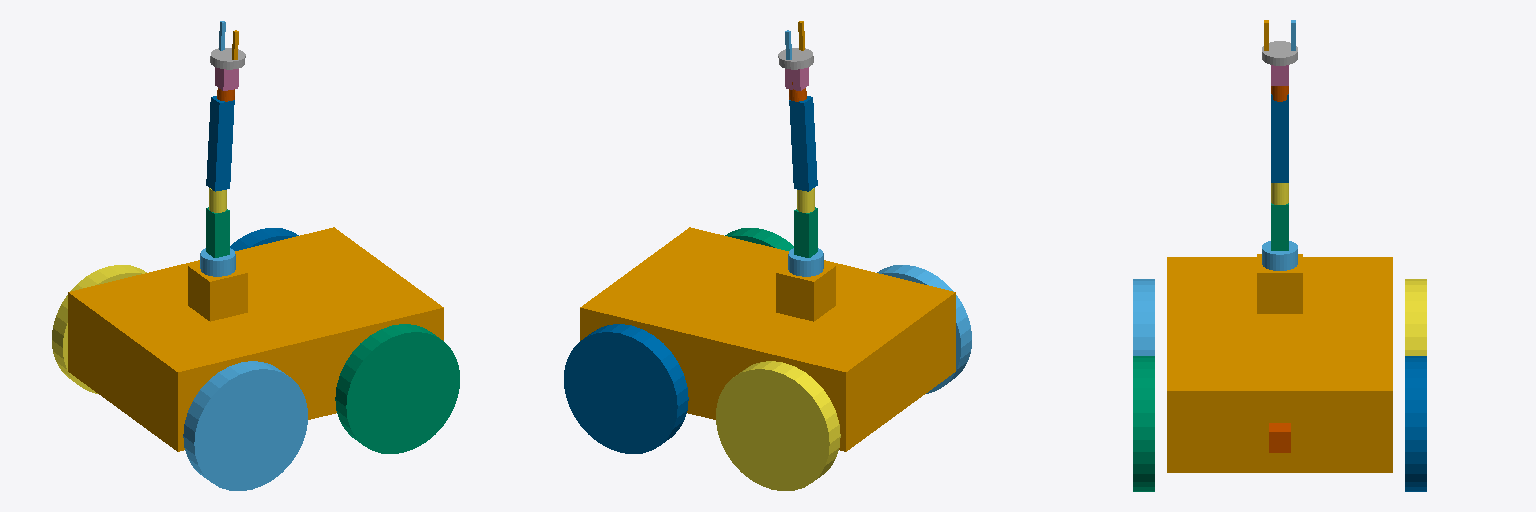
--- What the picture shows (computed from the rendered views, not written in the file) ---
3 views of the same robot in one strip: view 1: azimuth 30°, elevation 25°; view 2: azimuth 150°, elevation 25°; view 3: azimuth 270°, elevation 25° (orthographic).
Robot: atom — 18 links, 17 joints (7 revolute, 4 continuous, 2 prismatic, 4 fixed); root link robot_footprint; default pose: every joint at zero.
Links seen in each view (by area): view 1: chassis, right_wheel_front, right_wheel_back, arm_base, elbow_pitch_link, left_wheel_back, shoulder_pitch_link, left_wheel_front, shoulder_pan_link, gripper_roll_link; view 2: chassis, left_wheel_front, left_wheel_back, arm_base, elbow_pitch_link, right_wheel_back, shoulder_pitch_link, right_wheel_front, shoulder_pan_link, gripper_roll_link; view 3: chassis, right_wheel_front, left_wheel_front, arm_base, right_wheel_back, left_wheel_back, elbow_pitch_link, shoulder_pitch_link, shoulder_pan_link, gripper_roll_link, camera.
Boxes of the visible links, x1=… form: chassis: x1=68, y1=227, x2=443, y2=451; right_wheel_front: x1=335, y1=324, x2=459, y2=453; right_wheel_back: x1=183, y1=361, x2=307, y2=490; arm_base: x1=188, y1=263, x2=247, y2=321; elbow_pitch_link: x1=206, y1=96, x2=234, y2=191; left_wheel_back: x1=52, y1=265, x2=146, y2=393; shoulder_pitch_link: x1=206, y1=207, x2=229, y2=257; left_wheel_front: x1=230, y1=228, x2=298, y2=250; shoulder_pan_link: x1=200, y1=248, x2=235, y2=276; gripper_roll_link: x1=210, y1=48, x2=245, y2=69; chassis: x1=580, y1=227, x2=955, y2=451; left_wheel_front: x1=564, y1=324, x2=688, y2=453; left_wheel_back: x1=716, y1=361, x2=840, y2=490; arm_base: x1=776, y1=263, x2=835, y2=321; elbow_pitch_link: x1=789, y1=96, x2=817, y2=191; right_wheel_back: x1=877, y1=265, x2=971, y2=393; shoulder_pitch_link: x1=794, y1=207, x2=817, y2=257; right_wheel_front: x1=725, y1=228, x2=793, y2=250; shoulder_pan_link: x1=788, y1=248, x2=823, y2=276; gripper_roll_link: x1=778, y1=48, x2=813, y2=69; chassis: x1=1167, y1=257, x2=1392, y2=472; right_wheel_front: x1=1133, y1=356, x2=1154, y2=491; left_wheel_front: x1=1405, y1=356, x2=1426, y2=491; arm_base: x1=1257, y1=254, x2=1302, y2=313; right_wheel_back: x1=1133, y1=279, x2=1154, y2=355; left_wheel_back: x1=1405, y1=279, x2=1426, y2=355; elbow_pitch_link: x1=1271, y1=94, x2=1288, y2=182; shoulder_pitch_link: x1=1271, y1=203, x2=1288, y2=250; shoulder_pan_link: x1=1262, y1=241, x2=1297, y2=270; gripper_roll_link: x1=1262, y1=41, x2=1297, y2=65; camera: x1=1269, y1=423, x2=1290, y2=452.
Bounding box of the posed robot: 0.755 × 0.65 × 1 m (x, y, z).
Meshes: 1 distinct files referenced, 0 mesh visuals loaded (none loaded); not drawn: 1 (reference not matched to a file when rendering).

The robot description file, URDF, robot "atom":
<?xml version="1.0" ?>
<!-- =================================================================================== -->
<!-- |    This document was autogenerated by xacro from atom.xacro                     | -->
<!-- |    EDITING THIS FILE BY HAND IS NOT RECOMMENDED                                 | -->
<!-- =================================================================================== -->
<robot name="atom">
  <!-- Make Chassis of Bot -->
  <link name="chassis">
    <pose>0 0 0.1 0 0 0</pose>
    <inertial>
      <mass value="35"/>
      <origin rpy=" 0 0 0" xyz="0.0 0 0"/>
      <inertia ixx="0.725" ixy="0" ixz="0" iyy="1.325" iyz="0" izz="1.85"/>
    </inertial>
    <collision name="collision">
      <origin rpy=" 0 0 0" xyz="0 0 0.05"/>
      <geometry>
        <box size="0.7 0.5 0.2"/>
      </geometry>
    </collision>
    <visual name="chassis_visual">
      <origin rpy=" 0 0 0" xyz="0 0 0.05"/>
      <geometry>
        <box size="0.7 0.5 0.2"/>
      </geometry>
    </visual>
  </link>
  <!-- Right Wheel Back -->
  <link name="right_wheel_back">
    <inertial>
      <mass value="3"/>
      <origin rpy="0 1.5707 1.5707" xyz="0 0 0"/>
      <inertia ixx="0.0175" ixy="0.0" ixz="0.0" iyy="0.0175" iyz="0.0" izz="0.03375"/>
    </inertial>
    <visual>
      <origin rpy="0 1.5707 1.5707" xyz="0 0 0"/>
      <geometry>
        <cylinder length="0.05" radius="0.15"/>
      </geometry>
    </visual>
    <collision>
      <origin rpy="0 1.5707 1.5707" xyz="0 0 0"/>
      <geometry>
        <cylinder length="0.05" radius="0.15"/>
      </geometry>
    </collision>
  </link>
  <!-- Right Wheel Front-->
  <link name="right_wheel_front">
    <inertial>
      <mass value="3"/>
      <origin rpy="0 1.5707 1.5707" xyz="0 0 0"/>
      <inertia ixx="0.0175" ixy="0.0" ixz="0.0" iyy="0.0175" iyz="0.0" izz="0.03375"/>
    </inertial>
    <visual>
      <origin rpy="0 1.5707 1.5707" xyz="0 0 0"/>
      <geometry>
        <cylinder length="0.05" radius="0.15"/>
      </geometry>
    </visual>
    <collision>
      <origin rpy="0 1.5707 1.5707" xyz="0 0 0"/>
      <geometry>
        <cylinder length="0.05" radius="0.15"/>
      </geometry>
    </collision>
  </link>
  <!-- Left wheel Back-->
  <link name="left_wheel_back">
    <inertial>
      <mass value="3"/>
      <origin rpy="0 1.5707 1.5707" xyz="0 0 0"/>
      <inertia ixx="0.0175" ixy="0.0" ixz="0.0" iyy="0.0175" iyz="0.0" izz="0.03375"/>
    </inertial>
    <visual>
      <origin rpy="0 1.5707 1.5707" xyz="0 0 0"/>
      <geometry>
        <cylinder length="0.05" radius="0.15"/>
      </geometry>
    </visual>
    <collision>
      <origin rpy="0 1.5707 1.5707" xyz="0 0 0"/>
      <geometry>
        <cylinder length="0.05" radius="0.15"/>
      </geometry>
    </collision>
  </link>
  <!-- Left wheel Front-->
  <link name="left_wheel_front">
    <inertial>
      <mass value="3"/>
      <origin rpy="0 1.5707 1.5707" xyz="0 0 0"/>
      <inertia ixx="0.0175" ixy="0.0" ixz="0.0" iyy="0.0175" iyz="0.0" izz="0.03375"/>
    </inertial>
    <visual>
      <origin rpy="0 1.5707 1.5707" xyz="0 0 0"/>
      <geometry>
        <cylinder length="0.05" radius="0.15"/>
      </geometry>
    </visual>
    <collision>
      <origin rpy="0 1.5707 1.5707" xyz="0 0 0"/>
      <geometry>
        <cylinder length="0.05" radius="0.15"/>
      </geometry>
    </collision>
  </link>
  <!-- Camera -->
  <link name="camera">
    <inertial>
      <mass value="0.1"/>
      <origin rpy="0 0 0" xyz="0 0 0"/>
      <inertia ixx="1e-6" ixy="0.0" ixz="0.0" iyy="1e-6" iyz="0.0" izz="1e-6"/>
    </inertial>
    <visual>
      <origin rpy="0 0 0" xyz="0 0 0"/>
      <geometry>
        <box size="0.05 0.05 0.05"/>
      </geometry>
    </visual>
    <collision>
      <origin rpy="0 0 0" xyz="0 0 0"/>
      <geometry>
        <box size="0.05 0.05 0.05"/>
      </geometry>
    </collision>
  </link>
  <!-- Hokuyo Lidar -->
  <link name="hokuyo">
    <inertial>
      <mass value="1e-05"/>
      <origin rpy="0 0 0" xyz="0 0 0"/>
      <inertia ixx="1e-6" ixy="0.0" ixz="0.0" iyy="1e-6" iyz="0.0" izz="1e-6"/>
    </inertial>
    <visual>
      <origin rpy="0 0 0" xyz="0 0 0"/>
      <geometry>
        <mesh filename="package://atom/meshes/hokuyo.dae"/>
      </geometry>
    </visual>
    <collision>
      <origin rpy="0 0 0" xyz="0 0 0"/>
      <geometry>
        <box size="0.1 0.1 0.1"/>
      </geometry>
    </collision>
  </link>
  <!-- Project center to the ground -->
  <link name="robot_footprint"/>
  <!-- Define Joints -->
  <!-- Right Wheel Joint Back-->
  <joint name="right_wheel_hinge_back" type="continuous">
    <origin rpy="0 0 0" xyz="-0.2 -0.30 0"/>
    <parent link="chassis"/>
    <child link="right_wheel_back"/>
    <axis rpy="0 0 0" xyz="0 1 0"/>
    <limit effort="10000" velocity="1000"/>
    <dynamics damping="1.0" friction="1.0"/>
  </joint>
  <!-- Right Wheel Joint Front-->
  <joint name="right_wheel_hinge_front" type="continuous">
    <origin rpy="0 0 0" xyz="0.2 -0.30 0"/>
    <parent link="chassis"/>
    <child link="right_wheel_front"/>
    <axis rpy="0 0 0" xyz="0 1 0"/>
    <limit effort="10000" velocity="1000"/>
    <dynamics damping="1.0" friction="1.0"/>
  </joint>
  <!-- Left Wheel Joint Back-->
  <joint name="left_wheel_hinge_back" type="continuous">
    <origin rpy="0 0 0" xyz="-0.2 0.30 0"/>
    <parent link="chassis"/>
    <child link="left_wheel_back"/>
    <axis rpy="0 0 0" xyz="0 1 0"/>
    <limit effort="10000" velocity="1000"/>
    <dynamics damping="1.0" friction="1.0"/>
  </joint>
  <!-- Left Wheel Joint Front-->
  <joint name="left_wheel_hinge_front" type="continuous">
    <origin rpy="0 0 0" xyz="0.2 0.30 0"/>
    <parent link="chassis"/>
    <child link="left_wheel_front"/>
    <axis rpy="0 0 0" xyz="0 1 0"/>
    <limit effort="10000" velocity="1000"/>
    <dynamics damping="1.0" friction="1.0"/>
  </joint>
  <!-- Camera Joint -->
  <joint name="camera_joint" type="fixed">
    <origin rpy="0 0 0" xyz="0.38 0 0.05"/>
    <parent link="chassis"/>
    <child link="camera"/>
    <axis xyz="0 1 0"/>
  </joint>
  <!-- Hokoyu Joint -->
  <joint name="hokuyo_joint" type="fixed">
    <origin rpy="0 0 0" xyz="0.2 0 0.2"/>
    <parent link="chassis"/>
    <child link="hokuyo"/>
    <axis xyz="0 1 0"/>
  </joint>
  <joint name="robot_footprint_joint" type="fixed">
    <origin rpy="0 0 0" xyz="0 0 0"/>
    <parent link="robot_footprint"/>
    <child link="chassis"/>
  </joint>
  <!-- Color of bot -->
  <gazebo reference="left_wheel_front">
    <material>Gazebo/Green</material>
    <kp>1000000.0</kp>
    <!-- kp and kd for rubber -->
    <kd>100.0</kd>
    <mu1>1.0</mu1>
    <mu2>1.0</mu2>
    <maxVel>1.0</maxVel>
    <minDepth>0.00</minDepth>
  </gazebo>
  <gazebo reference="left_wheel_back">
    <material>Gazebo/Green</material>
    <kp>1000000.0</kp>
    <!-- kp and kd for rubber -->
    <kd>100.0</kd>
    <mu1>1.0</mu1>
    <mu2>1.0</mu2>
    <maxVel>1.0</maxVel>
    <minDepth>0.00</minDepth>
  </gazebo>
  <gazebo reference="right_wheel_front">
    <material>Gazebo/Green</material>
    <kp>1000000.0</kp>
    <!-- kp and kd for rubber -->
    <kd>100.0</kd>
    <mu1>1.0</mu1>
    <mu2>1.0</mu2>
    <maxVel>1.0</maxVel>
    <minDepth>0.00</minDepth>
  </gazebo>
  <gazebo reference="right_wheel_back">
    <material>Gazebo/Green</material>
    <kp>1000000.0</kp>
    <!-- kp and kd for rubber -->
    <kd>100.0</kd>
    <mu1>1.0</mu1>
    <mu2>1.0</mu2>
    <maxVel>1.0</maxVel>
    <minDepth>0.00</minDepth>
  </gazebo>
  <!--<gazebo reference="right_wheel">
		<material>Gazebo/Green</material>
	</gazebo>-->
  <gazebo reference="camera">
    <material>Gazebo/Red</material>
  </gazebo>
  <gazebo reference="chassis">
    <material>Gazebo/Blue</material>
  </gazebo>
  <link name="arm_base">
    <visual>
      <origin rpy="1.570795 0 0" xyz="0 0 0"/>
      <!-- rotate PI/2 -->
      <geometry>
        <box size="0.1 0.1 0.1"/>
      </geometry>
      <material name="White"/>
    </visual>
    <collision>
      <origin rpy="1.570795 0 0" xyz="0 0 0"/>
      <!-- rotate PI/2 -->
      <geometry>
        <box size="0.1 0.1 0.1"/>
      </geometry>
    </collision>
    
    &gt;
	
    
    <inertial>
      <mass value="1"/>
      <inertia ixx="1.0" ixy="0.0" ixz="0.0" iyy="0.5" iyz="0.0" izz="1.0"/>
    </inertial>
  </link>
  <joint name="arm_base_joint" type="fixed">
    <origin rpy="0 0 0" xyz="-0.1 0.0 0.2"/>
    <parent link="chassis"/>
    <child link="arm_base"/>
    <axis rpy="0 0 0" xyz="0 0 1"/>
  </joint>
  <link name="shoulder_pan_link">
    <visual>
      <origin rpy="0 1.570795 0" xyz="0 0 0"/>
      <geometry>
        <cylinder length="0.08" radius="0.04"/>
      </geometry>
      <material name="Red"/>
    </visual>
    <collision>
      <origin rpy="0 1.570795 0" xyz="0 0 0"/>
      <geometry>
        <cylinder length="0.08" radius="0.04"/>
      </geometry>
    </collision>
    <inertial>
      <mass value="1"/>
      <inertia ixx="1.0" ixy="0.0" ixz="0.0" iyy="0.5" iyz="0.0" izz="1.0"/>
    </inertial>
  </link>
  <joint name="shoulder_pan_joint" type="revolute">
    <parent link="arm_base"/>
    <child link="shoulder_pan_link"/>
    <origin rpy="0 1.570795 0.0" xyz="0 0 0.05"/>
    <axis xyz="-1 0 0"/>
    <limit effort="300" lower="-2.61799387799" upper="1.98394848567" velocity="1"/>
    <dynamics damping="50" friction="1"/>
  </joint>
  <joint name="shoulder_pitch_joint" type="revolute">
    <parent link="shoulder_pan_link"/>
    <child link="shoulder_pitch_link"/>
    <origin rpy="-1.570795 0 1.570795" xyz="-0.041 0.0021 0.0"/>
    <axis xyz="1 0 0"/>
    <limit effort="300" lower="-1.19962513147" upper="1.89994105047" velocity="1"/>
    <dynamics damping="50" friction="1"/>
  </joint>
  <!-- ///////////////////////////////////////////////////////////////////////////////////////////////////////////////////// -->
  <!-- SHOULDER PITCH LINK -->
  <link name="shoulder_pitch_link">
    <visual>
      <origin rpy="0 1.570795 0" xyz="-0.002 0 0.04"/>
      <geometry>
        <box size="0.14 0.04 0.04"/>
      </geometry>
      <material name="White"/>
    </visual>
    <collision>
      <origin rpy="0 1.570795 0" xyz="-0.002 0 0.04"/>
      <geometry>
        <box size="0.14 0.04 0.04"/>
      </geometry>
    </collision>
    <inertial>
      <mass value="1"/>
      <inertia ixx="1.0" ixy="0.0" ixz="0.0" iyy="0.5" iyz="0.0" izz="1.0"/>
    </inertial>
  </link>
  <gazebo reference="shoulder_pitch_link">
    <material>Gazebo/White</material>
  </gazebo>
  <joint name="elbow_roll_joint" type="revolute">
    <parent link="shoulder_pitch_link"/>
    <child link="elbow_roll_link"/>
    <origin rpy="3.14159 1.570795 0" xyz="-0.002 0 0.1206"/>
    <axis xyz="-1 0 0"/>
    <limit effort="300" lower="-2.61799387799" upper="0.705631162427" velocity="1"/>
    <dynamics damping="50" friction="1"/>
  </joint>
  <!-- ///////////////////////////////////////////////////////////////////////////////////////////////////////////////////// -->
  <!-- ELBOW ROLL LINK -->
  <link name="elbow_roll_link">
    <visual>
      <origin rpy="0 1.570795 0" xyz="-0.015 0.0 -0.0"/>
      <geometry>
        <cylinder length="0.06" radius="0.02"/>
      </geometry>
      <material name="Black"/>
    </visual>
    <collision>
      <origin rpy="0 1.570795 0" xyz="-0.015 0.0 -0.0"/>
      <geometry>
        <cylinder length="0.06" radius="0.02"/>
      </geometry>
    </collision>
    <inertial>
      <mass value="1"/>
      <inertia ixx="1.0" ixy="0.0" ixz="0.0" iyy="0.5" iyz="0.0" izz="1.0"/>
    </inertial>
  </link>
  <gazebo reference="elbow_roll_link">
    <material>Gazebo/Black</material>
  </gazebo>
  <joint name="elbow_pitch_joint" type="revolute">
    <parent link="elbow_roll_link"/>
    <child link="elbow_pitch_link"/>
    <origin rpy="0.055 1.570795 0" xyz="-0.035 0 0.0"/>
    <axis xyz="1 0 0"/>
    <limit effort="300" lower="-1.5953400194" upper="1.93281579274" velocity="1"/>
    <dynamics damping="50" friction="1"/>
  </joint>
  <!-- ///////////////////////////////////////////////////////////////////////////////////////////////////////////////////// -->
  <!-- ELBOW PITCH LINK -->
  <link name="elbow_pitch_link">
    <visual>
      <origin rpy="0 1.570795 0" xyz="0 0 -0.12"/>
      <geometry>
        <box size="0.22 0.04 0.04"/>
      </geometry>
      <material name="Red"/>
    </visual>
    <collision>
      <origin rpy="0 1.570795 0" xyz="0 0 -0.12"/>
      <geometry>
        <box size="0.22 0.04 0.04"/>
      </geometry>
    </collision>
    <inertial>
      <mass value="1"/>
      <inertia ixx="1.0" ixy="0.0" ixz="0.0" iyy="0.5" iyz="0.0" izz="1.0"/>
    </inertial>
  </link>
  <gazebo reference="elbow_pitch_link">
    <material>Gazebo/Red</material>
  </gazebo>
  <joint name="wrist_roll_joint" type="revolute">
    <parent link="elbow_pitch_link"/>
    <child link="wrist_roll_link"/>
    <origin rpy="0 1.570795 3.14159" xyz="0.0 0.0081 -.248"/>
    <axis xyz="1 0 0"/>
    <limit effort="300" lower="-2.61799387799" upper="2.6128806087" velocity="1"/>
    <dynamics damping="50" friction="1"/>
  </joint>
  <!-- WRIST ROLL LINK -->
  <link name="wrist_roll_link">
    <visual>
      <origin rpy="0 1.570795 0" xyz="0 0 0"/>
      <geometry>
        <cylinder length="0.06" radius="0.02"/>
      </geometry>
      <material name="Black"/>
    </visual>
    <collision>
      <origin rpy="0 1.570795 0" xyz="0 0 0"/>
      <geometry>
        <cylinder length="0.06" radius="0.02"/>
      </geometry>
    </collision>
    <inertial>
      <mass value="1"/>
      <inertia ixx="1.0" ixy="0.0" ixz="0.0" iyy="0.5" iyz="0.0" izz="1.0"/>
    </inertial>
  </link>
  <gazebo reference="wrist_roll_link">
    <material>Gazebo/Black</material>
  </gazebo>
  <joint name="wrist_pitch_joint" type="revolute">
    <parent link="wrist_roll_link"/>
    <child link="wrist_pitch_link"/>
    <origin rpy="0 1.570795 0" xyz="0.0 0.0 0.0001"/>
    <axis xyz="1 0 0"/>
    <limit effort="300" lower="-1.5953400194" upper="1.98394848567" velocity="1"/>
    <dynamics damping="50" friction="1"/>
  </joint>
  <!-- ///////////////////////////////////////////////////////////////////////////////////////////////////////////////////// -->
  <!-- WRIST PITCH LINK -->
  <link name="wrist_pitch_link">
    <visual>
      <origin rpy="0 1.570795 0" xyz="0 0 0.04"/>
      <geometry>
        <box size="0.06 0.04 0.04"/>
      </geometry>
      <material name="White"/>
    </visual>
    <collision>
      <origin rpy="0 1.570795 0" xyz="0 0 0.04 "/>
      <geometry>
        <box size="0.06 0.04 0.04"/>
      </geometry>
    </collision>
    <inertial>
      <mass value="1"/>
      <inertia ixx="1.0" ixy="0.0" ixz="0.0" iyy="0.5" iyz="0.0" izz="1.0"/>
    </inertial>
  </link>
  <gazebo reference="wrist_pitch_link">
    <material>Gazebo/White</material>
  </gazebo>
  <joint name="gripper_roll_joint" type="revolute">
    <parent link="wrist_pitch_link"/>
    <child link="gripper_roll_link"/>
    <origin rpy="4.712385 -1.570795 0" xyz="0 0 0.080"/>
    <axis xyz="1 0 0"/>
    <!--
		<limit effort="300" velocity="1" lower="-2.61799387799" upper="2.6128806087" />
		-->
    <limit effort="300" lower="-3.14" upper="3.14" velocity="1"/>
    <dynamics damping="50" friction="1"/>
  </joint>
  <!-- ///////////////////////////////////////////////////////////////////////////////////////////////////////////////////// -->
  <!-- GRIPPER ROLL LINK -->
  <link name="gripper_roll_link">
    <visual>
      <origin rpy="0 1.570795 0" xyz="0 0 0"/>
      <geometry>
        <cylinder length="0.02" radius="0.04"/>
      </geometry>
      <material name="Red"/>
    </visual>
    <collision>
      <origin rpy="0 1.570795 0" xyz="0 0 0"/>
      <geometry>
        <cylinder length="0.02" radius="0.04"/>
      </geometry>
    </collision>
    <inertial>
      <mass value="1"/>
      <inertia ixx="1.0" ixy="0.0" ixz="0.0" iyy="0.5" iyz="0.0" izz="1.0"/>
    </inertial>
  </link>
  <gazebo reference="gripper_roll_link">
    <material>Gazebo/Red</material>
  </gazebo>
  <joint name="finger_joint1" type="prismatic">
    <parent link="gripper_roll_link"/>
    <child link="gripper_finger_link1"/>
    <origin xyz="0.0 0 0"/>
    <axis xyz="0 1 0"/>
    <limit effort="100" lower="0" upper="0.03" velocity="1.0"/>
    <safety_controller k_position="20" k_velocity="20" soft_lower_limit="-0.15" soft_upper_limit="0.0"/>
    <dynamics damping="50" friction="1"/>
  </joint>
  <!-- ///////////////////////////////////////////////////////////////////////////////////////////////////////////////////// -->
  <!-- LEFT GRIPPER AFT LINK -->
  <link name="gripper_finger_link1">
    <visual>
      <origin xyz="0.04 -0.03 0"/>
      <geometry>
        <box size="0.08 0.01 0.01"/>
      </geometry>
      <material name="White"/>
    </visual>
    <inertial>
      <mass value="1"/>
      <inertia ixx="1.0" ixy="0.0" ixz="0.0" iyy="0.5" iyz="0.0" izz="1.0"/>
    </inertial>
  </link>
  <gazebo reference="l_gripper_aft_link">
    <material>Gazebo/White</material>
  </gazebo>
  <!-- Joint between Wrist roll and finger 2 -->
  <joint name="finger_joint2" type="prismatic">
    <parent link="gripper_roll_link"/>
    <child link="gripper_finger_link2"/>
    <origin xyz="0.0 0 0"/>
    <axis xyz="0 1 0"/>
    <limit effort="1" lower="-0.03" upper="0" velocity="1.0"/>
    <!--    <mimic joint="gripper_finger_joint" multiplier="-1.0" offset="0.0" /> -->
    <dynamics damping="50" friction="1"/>
  </joint>
  <!-- ///////////////////////////////////////////////////////////////////////////////////////////////////////////////////// -->
  <!-- RIGHT GRIPPER AFT LINK -->
  <link name="gripper_finger_link2">
    <visual>
      <origin xyz="0.04 0.03 0"/>
      <geometry>
        <box size="0.08 0.01 0.01"/>
      </geometry>
      <material name="White"/>
    </visual>
    <inertial>
      <mass value="1"/>
      <inertia ixx="1.0" ixy="0.0" ixz="0.0" iyy="0.5" iyz="0.0" izz="1.0"/>
    </inertial>
  </link>
  <gazebo reference="r_gripper_aft_link">
    <material>Gazebo/White</material>
  </gazebo>
  <transmission name="tran1">
    <type>transmission_interface/SimpleTransmission</type>
    <joint name="shoulder_pan_joint">
      <hardwareInterface>hardware_interface/PositionJointInterface</hardwareInterface>
    </joint>
    <actuator name="motor1">
      <hardwareInterface>hardware_interface/PositionJointInterface</hardwareInterface>
      <mechanicalReduction>1</mechanicalReduction>
    </actuator>
  </transmission>
  <transmission name="tran1">
    <type>transmission_interface/SimpleTransmission</type>
    <joint name="shoulder_pitch_joint">
      <hardwareInterface>hardware_interface/PositionJointInterface</hardwareInterface>
    </joint>
    <actuator name="motor1">
      <hardwareInterface>hardware_interface/PositionJointInterface</hardwareInterface>
      <mechanicalReduction>1</mechanicalReduction>
    </actuator>
  </transmission>
  <transmission name="tran1">
    <type>transmission_interface/SimpleTransmission</type>
    <joint name="elbow_roll_joint">
      <hardwareInterface>hardware_interface/PositionJointInterface</hardwareInterface>
    </joint>
    <actuator name="motor1">
      <hardwareInterface>hardware_interface/PositionJointInterface</hardwareInterface>
      <mechanicalReduction>1</mechanicalReduction>
    </actuator>
  </transmission>
  <transmission name="tran1">
    <type>transmission_interface/SimpleTransmission</type>
    <joint name="elbow_pitch_joint">
      <hardwareInterface>hardware_interface/PositionJointInterface</hardwareInterface>
    </joint>
    <actuator name="motor1">
      <hardwareInterface>hardware_interface/PositionJointInterface</hardwareInterface>
      <mechanicalReduction>1</mechanicalReduction>
    </actuator>
  </transmission>
  <transmission name="tran1">
    <type>transmission_interface/SimpleTransmission</type>
    <joint name="wrist_roll_joint">
      <hardwareInterface>hardware_interface/PositionJointInterface</hardwareInterface>
    </joint>
    <actuator name="motor1">
      <hardwareInterface>hardware_interface/PositionJointInterface</hardwareInterface>
      <mechanicalReduction>1</mechanicalReduction>
    </actuator>
  </transmission>
  <transmission name="tran1">
    <type>transmission_interface/SimpleTransmission</type>
    <joint name="wrist_pitch_joint">
      <hardwareInterface>hardware_interface/PositionJointInterface</hardwareInterface>
    </joint>
    <actuator name="motor1">
      <hardwareInterface>hardware_interface/PositionJointInterface</hardwareInterface>
      <mechanicalReduction>1</mechanicalReduction>
    </actuator>
  </transmission>
  <transmission name="tran1">
    <type>transmission_interface/SimpleTransmission</type>
    <joint name="gripper_roll_joint">
      <hardwareInterface>hardware_interface/PositionJointInterface</hardwareInterface>
    </joint>
    <actuator name="motor1">
      <hardwareInterface>hardware_interface/PositionJointInterface</hardwareInterface>
      <mechanicalReduction>1</mechanicalReduction>
    </actuator>
  </transmission>
  <transmission name="tran1">
    <type>transmission_interface/SimpleTransmission</type>
    <joint name="finger_joint1">
      <hardwareInterface>hardware_interface/PositionJointInterface</hardwareInterface>
    </joint>
    <actuator name="motor1">
      <hardwareInterface>hardware_interface/PositionJointInterface</hardwareInterface>
      <mechanicalReduction>1</mechanicalReduction>
    </actuator>
  </transmission>
  <transmission name="tran1">
    <type>transmission_interface/SimpleTransmission</type>
    <joint name="finger_joint2">
      <hardwareInterface>hardware_interface/PositionJointInterface</hardwareInterface>
    </joint>
    <actuator name="motor1">
      <hardwareInterface>hardware_interface/PositionJointInterface</hardwareInterface>
      <mechanicalReduction>1</mechanicalReduction>
    </actuator>
  </transmission>
  <transmission name="left_front_wheel_trans">
    <type>transmission_interface/SimpleTransmission</type>
    <actuator name="left_front_wheel_motor">
      <mechanicalReduction>1</mechanicalReduction>
    </actuator>
    <joint name="left_wheel_hinge_front">
      <hardwareInterface>hardware_interface/VelocityJointInterface</hardwareInterface>
    </joint>
  </transmission>
  <transmission name="left_back_wheel_trans">
    <type>transmission_interface/SimpleTransmission</type>
    <actuator name="_wheel_hinge_back">
      <mechanicalReduction>1</mechanicalReduction>
    </actuator>
    <joint name="left_wheel_hinge_back">
      <hardwareInterface>hardware_interface/VelocityJointInterface</hardwareInterface>
    </joint>
  </transmission>
  <transmission name="right_front_wheel_trans">
    <type>transmission_interface/SimpleTransmission</type>
    <actuator name="right_front_wheel_motor">
      <mechanicalReduction>1</mechanicalReduction>
    </actuator>
    <joint name="right_wheel_hinge_front">
      <hardwareInterface>hardware_interface/VelocityJointInterface</hardwareInterface>
    </joint>
  </transmission>
  <transmission name="right_back_wheel_trans">
    <type>transmission_interface/SimpleTransmission</type>
    <actuator name="right_back_wheel_motor">
      <mechanicalReduction>1</mechanicalReduction>
    </actuator>
    <joint name="right_wheel_hinge_back">
      <hardwareInterface>hardware_interface/VelocityJointInterface</hardwareInterface>
    </joint>
  </transmission>
  <!-- camera -->
  <gazebo reference="camera">
    <sensor name="realsense_R200" type="depth">
      <always_on>true</always_on>
      <visualize>true</visualize>
      <camera>
        <horizontal_fov>1.3439</horizontal_fov>
        <image>
          <width>1920</width>
          <height>1080</height>
          <format>R8G8B8</format>
        </image>
        <depth_camera/>
      </camera>
      <plugin filename="libgazebo_ros_openni_kinect.so" name="camera_controller">
        <baseline>0.2</baseline>
        <alwaysOn>true</alwaysOn>
        <updateRate>30.0</updateRate>
        <cameraName>camera</cameraName>
        <frameName>camera</frameName>
        <imageTopicName>rgb/image_raw</imageTopicName>
        <depthImageTopicName>depth/image_raw</depthImageTopicName>
        <pointCloudTopicName>depth/points</pointCloudTopicName>
        <cameraInfoTopicName>rgb/camera_info</cameraInfoTopicName>
        <depthImageCameraInfoTopicName>depth/camera_info</depthImageCameraInfoTopicName>
        <pointCloudCutoff>0.4</pointCloudCutoff>
        <hackBaseline>0.07</hackBaseline>
        <distortionK1>0.0</distortionK1>
        <distortionK2>0.0</distortionK2>
        <distortionK3>0.0</distortionK3>
        <distortionT1>0.0</distortionT1>
        <distortionT2>0.0</distortionT2>
        <CxPrime>0.0</CxPrime>
        <Cx>0.0</Cx>
        <Cy>0.0</Cy>
        <focalLength>0</focalLength>
        <hackBaseline>0</hackBaseline>
      </plugin>
    </sensor>
  </gazebo>
  <!-- hokuyo -->
  <gazebo reference="hokuyo">
    <sensor name="head_hokuyo_sensor" type="ray">
      <pose>0 0 0 0 0 0</pose>
      <visualize>false</visualize>
      <update_rate>40</update_rate>
      <ray>
        <scan>
          <horizontal>
            <samples>720</samples>
            <resolution>1</resolution>
            <min_angle>-1.570796</min_angle>
            <max_angle>1.570796</max_angle>
          </horizontal>
        </scan>
        <range>
          <min>0.10</min>
          <max>30.0</max>
          <resolution>0.01</resolution>
        </range>
        <noise>
          <type>gaussian</type>
          <!-- Noise parameters based on published spec for Hokuyo laser
               achieving "+-30mm" accuracy at range < 10m.  A mean of 0.0m and
               stddev of 0.01m will put 99.7% of samples within 0.03m of the true
               reading. -->
          <mean>0.0</mean>
          <stddev>0.01</stddev>
        </noise>
      </ray>
      <plugin filename="libgazebo_ros_laser.so" name="gazebo_ros_head_hokuyo_controller">
        <topicName>/scan</topicName>
        <frameName>hokuyo</frameName>
      </plugin>
    </sensor>
  </gazebo>
  <gazebo>
    <plugin filename="libgazebo_ros_control.so" name="gazebo_ros_control">
      <robotNamespace>/seven_dof_arm</robotNamespace>
    </plugin>
  </gazebo>
</robot>
